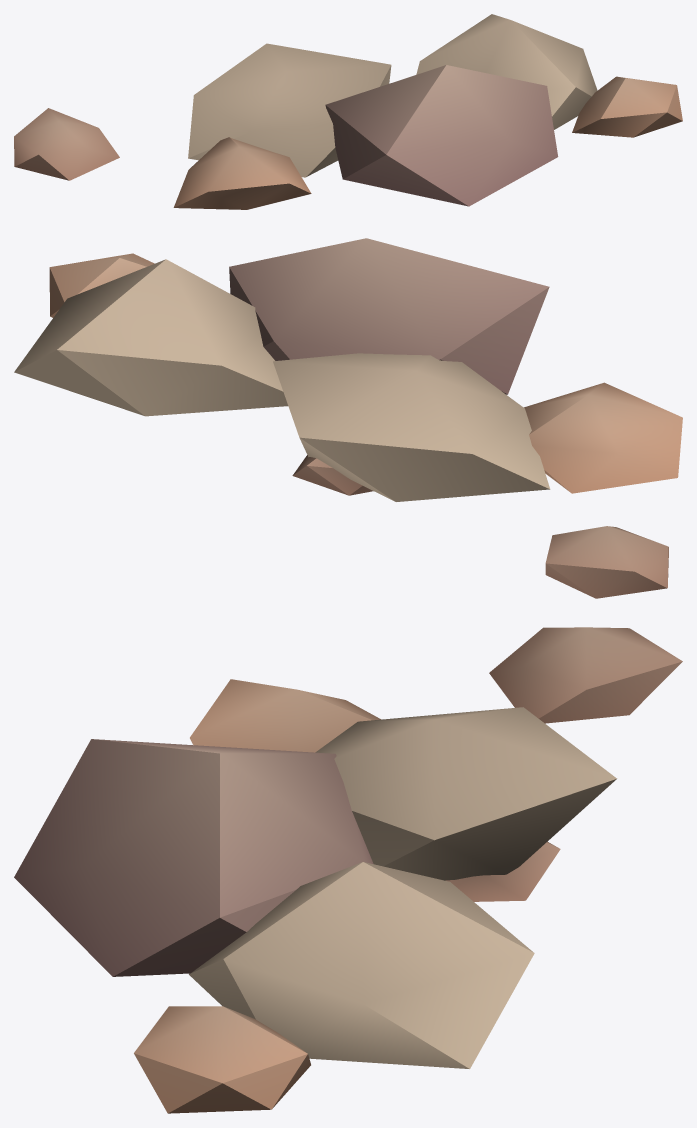
File: scree.glb
3 renders of one model, top to bottom at view 1: azimuth 30°, elevation 25°; view 2: azimuth 150°, elevation 25°; view 3: azimuth 270°, elevation 25°, orthographic. The views are drawn at different scales.
Parts seen in each view (by area): view 1: scree; view 2: scree; view 3: scree.
Part boxes in pixels (x1,y1,x2,y2): scree: (14, 14, 682, 209); scree: (14, 238, 682, 598); scree: (14, 627, 682, 1113).
Bounding box in the file's own units: 3.28 × 0.5693 × 1.96.
